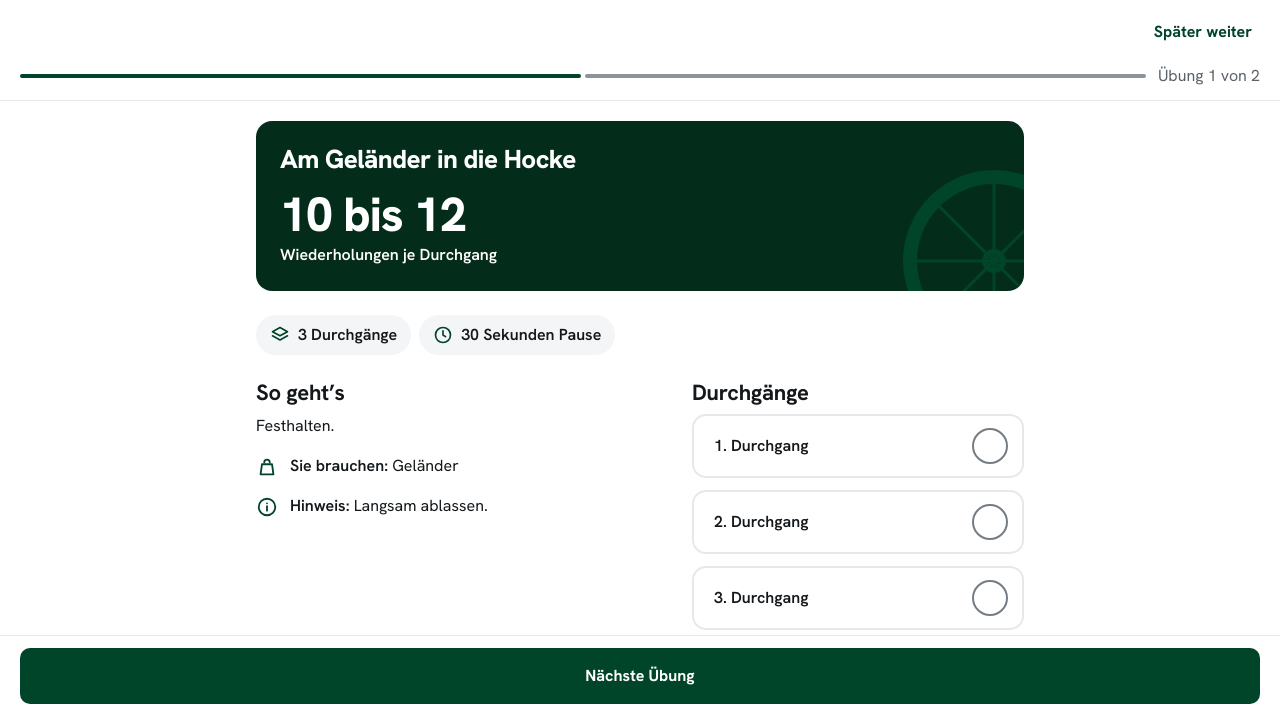
Durchführungsansicht (UEB-010, TRK-008) › beendet im Training ohne Einwilligung direkt von der letzten Übung (ADR-021 Punkt 4)
Click the button "1. Durchgang" at (766, 446), box [692,414,1024,478]
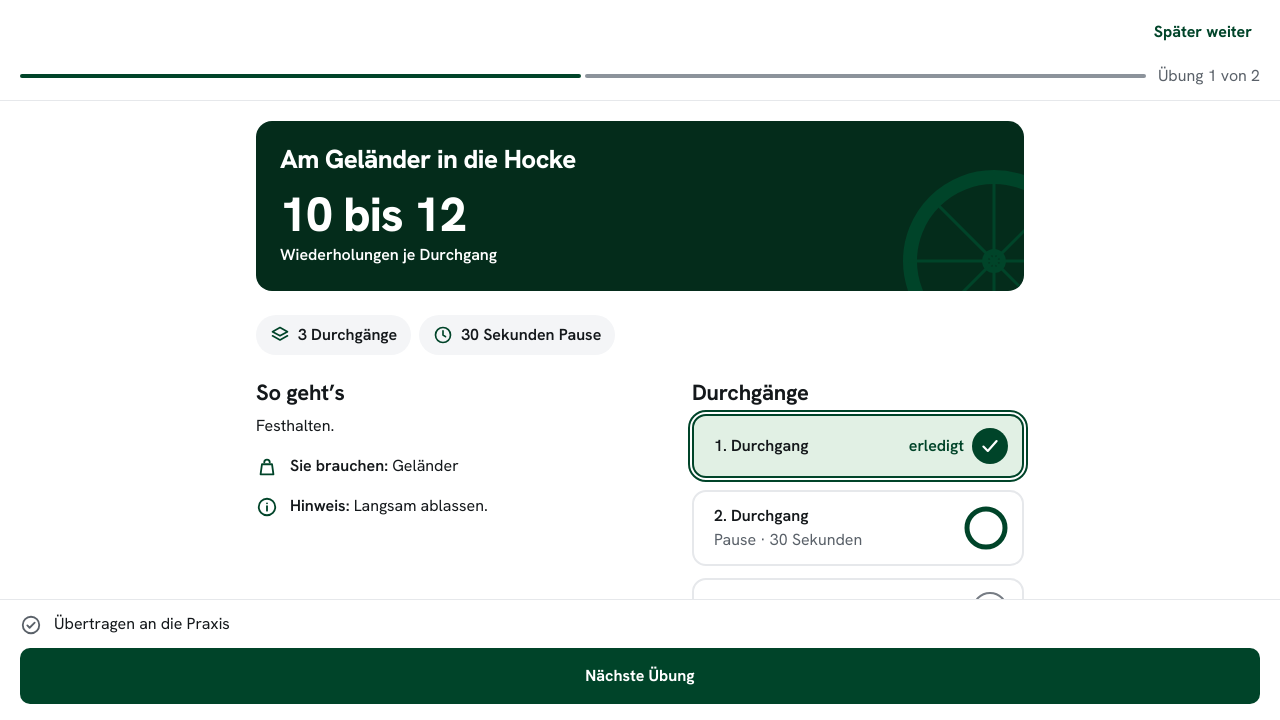
Click the button "Nächste Übung" at (640, 676), box [20,648,1260,704]
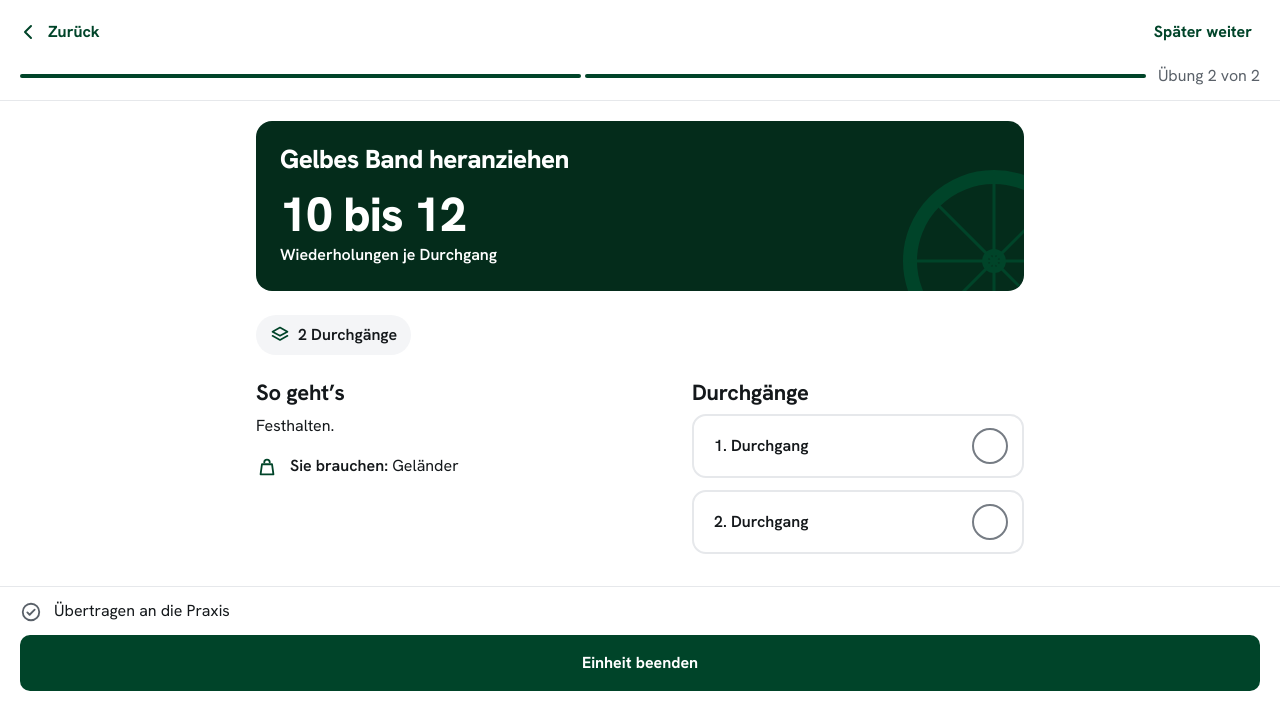
Click the button "Einheit beenden" at (640, 663), box [20,635,1260,691]
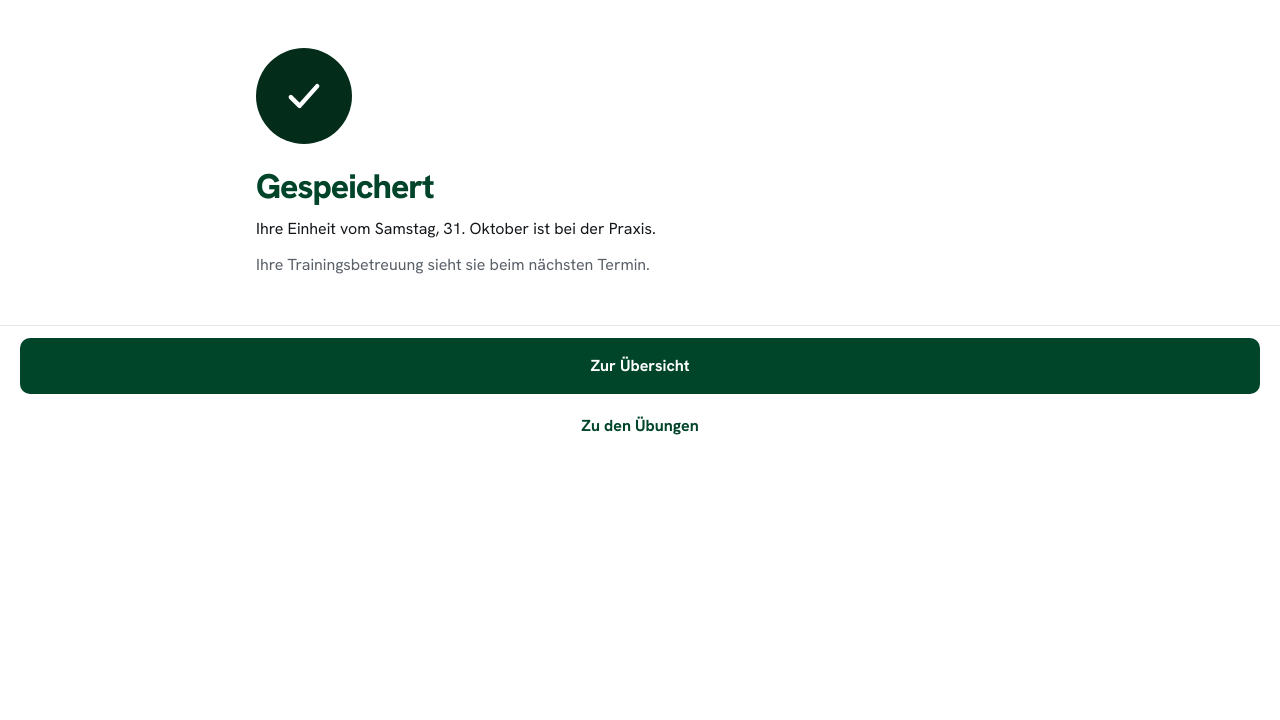
expect the heading "Gespeichert" is shown: met, box [256,164,434,208]
expect the text "Ihre Trainingsbetreuung sieht sie beim nächsten Termin." is shown: met, box [256,254,650,275]
